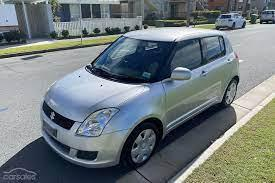Hatchback: (35, 26, 242, 171), (214, 12, 245, 29), (260, 8, 275, 24)
